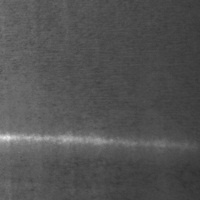scratches: (0, 130, 194, 147)
